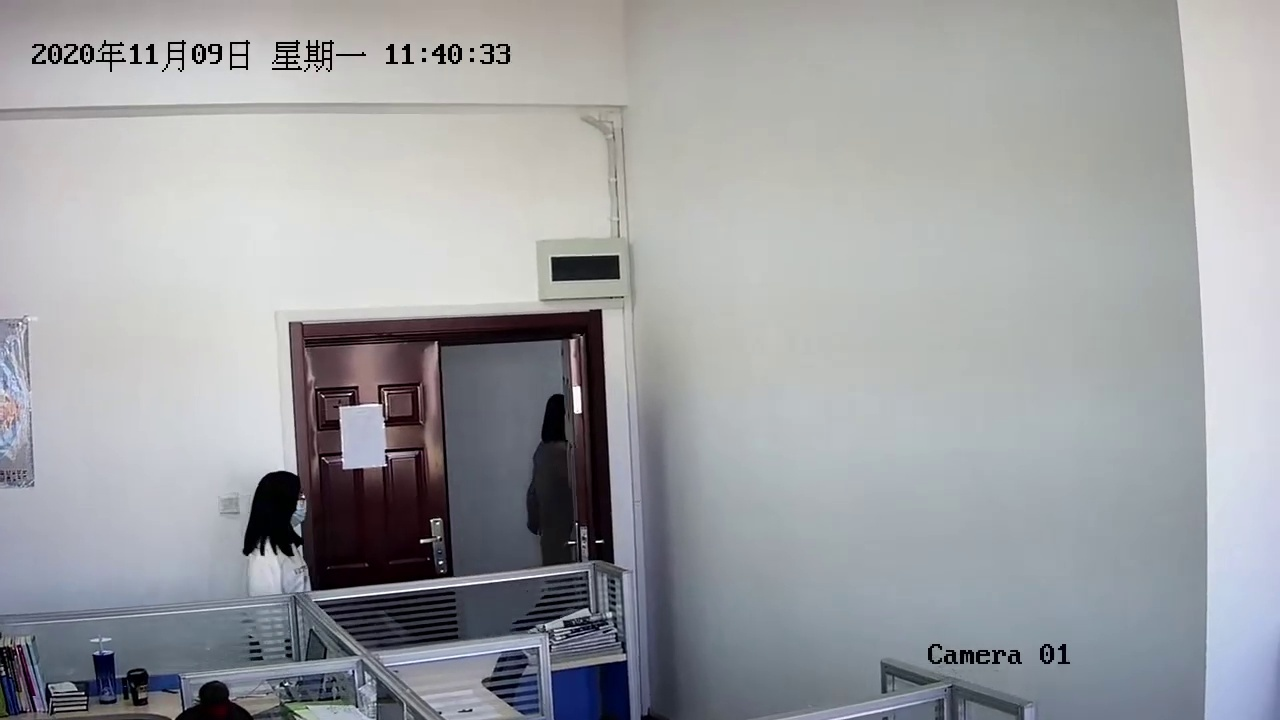mask: (256, 471, 313, 540)
